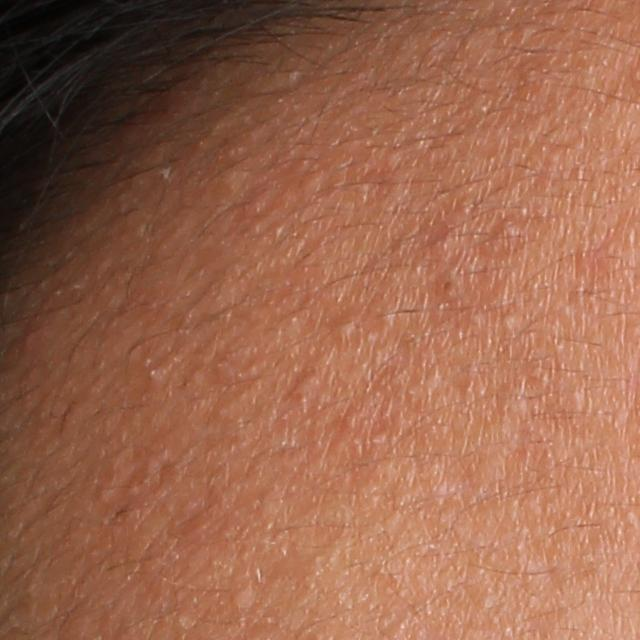comedo: (491, 209, 525, 237), (331, 309, 363, 338), (433, 276, 460, 300), (499, 310, 521, 330)
